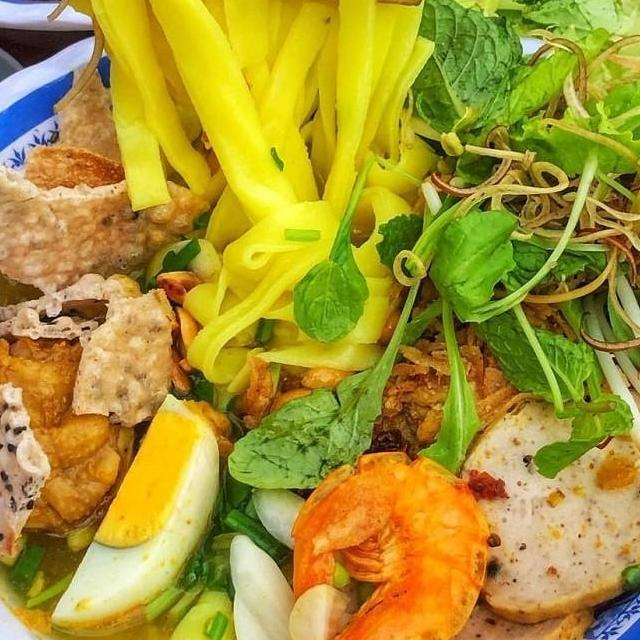banh da: (0, 154, 218, 313), (0, 264, 181, 434), (0, 378, 53, 569)
mi: (36, 0, 446, 409)
tom: (243, 441, 493, 640)
trung: (46, 388, 225, 640)
